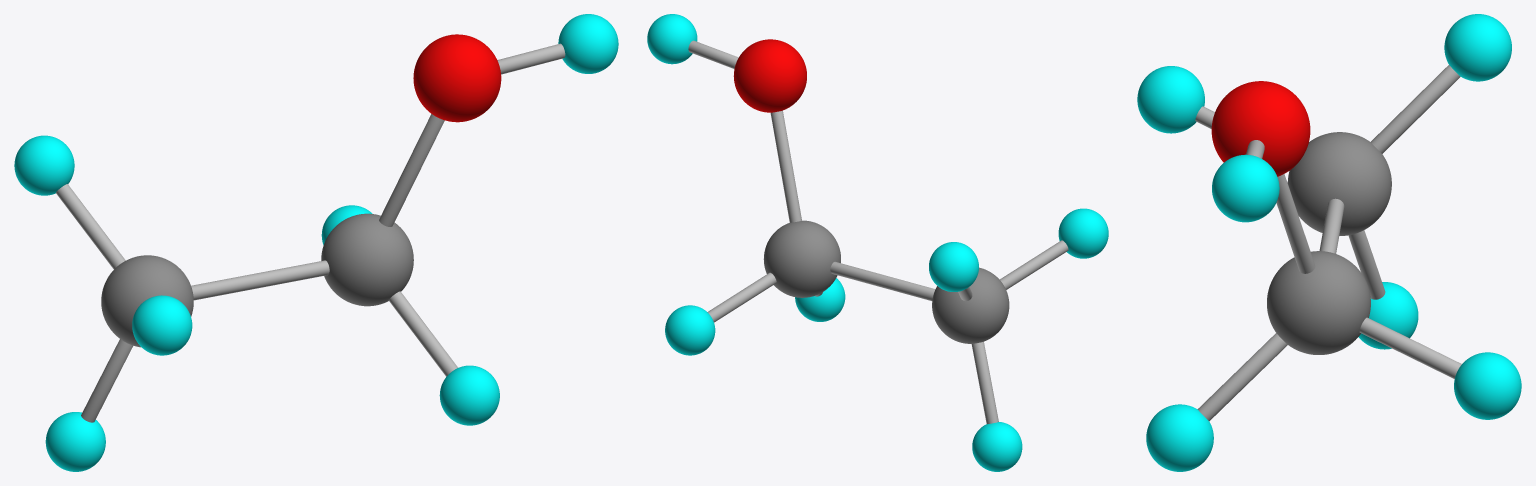
Rendered from ethanol.glb.
3 renders of one model, left to right at view 1: azimuth 30°, elevation 25°; view 2: azimuth 150°, elevation 25°; view 3: azimuth 270°, elevation 25°, orthographic. The views are drawn at different scales.
Parts seen in each view (by area): view 1: CMAtom_1, CMAtom_2, CMAtom_0, CMAtom_3, CMAtom_6, CMAtom_5, CMAtom_8, CMAtom_4, CMBond_1_Segment_0, CMBond_2_Segment_0, CMBond_5_Segment_0, CMBond_6_Segment_0 (+3 smaller); view 2: CMAtom_1, CMAtom_2, CMAtom_0, CMAtom_7, CMAtom_5, CMAtom_4, CMAtom_3, CMAtom_8, CMBond_2_Segment_0, CMBond_1_Segment_0, CMAtom_6, CMBond_4_Segment_0 (+3 smaller); view 3: CMAtom_1, CMAtom_0, CMAtom_2, CMAtom_7, CMAtom_8, CMAtom_5, CMAtom_6, CMAtom_3, CMAtom_4, CMBond_5_Segment_0, CMBond_6_Segment_0, CMBond_7_Segment_0 (+3 smaller).
Boxes of the visible parts, x1=… form: CMAtom_1: x1=321, y1=213, x2=413, y2=306; CMAtom_2: x1=413, y1=34, x2=501, y2=122; CMAtom_0: x1=101, y1=255, x2=193, y2=347; CMAtom_3: x1=132, y1=295, x2=192, y2=355; CMAtom_6: x1=439, y1=365, x2=499, y2=425; CMAtom_5: x1=14, y1=135, x2=74, y2=195; CMAtom_8: x1=558, y1=14, x2=618, y2=73; CMAtom_4: x1=45, y1=412, x2=105, y2=471; CMBond_1_Segment_0: x1=191, y1=260, x2=329, y2=300; CMBond_2_Segment_0: x1=379, y1=114, x2=444, y2=226; CMBond_5_Segment_0: x1=56, y1=184, x2=125, y2=269; CMBond_6_Segment_0: x1=388, y1=291, x2=457, y2=376; CMAtom_1: x1=763, y1=220, x2=840, y2=297; CMAtom_2: x1=733, y1=39, x2=806, y2=112; CMAtom_0: x1=932, y1=267, x2=1009, y2=343; CMAtom_7: x1=665, y1=305, x2=715, y2=355; CMAtom_5: x1=929, y1=242, x2=978, y2=291; CMAtom_4: x1=972, y1=422, x2=1022, y2=471; CMAtom_3: x1=1058, y1=208, x2=1108, y2=258; CMAtom_8: x1=647, y1=14, x2=697, y2=64; CMBond_2_Segment_0: x1=770, y1=110, x2=801, y2=222; CMBond_1_Segment_0: x1=830, y1=261, x2=935, y2=300; CMAtom_6: x1=795, y1=278, x2=845, y2=321; CMBond_4_Segment_0: x1=971, y1=341, x2=998, y2=424; CMAtom_1: x1=1267, y1=251, x2=1370, y2=354; CMAtom_0: x1=1287, y1=132, x2=1391, y2=235; CMAtom_2: x1=1211, y1=81, x2=1310, y2=176; CMAtom_7: x1=1454, y1=352, x2=1521, y2=419; CMAtom_8: x1=1212, y1=154, x2=1279, y2=222; CMAtom_5: x1=1444, y1=14, x2=1511, y2=81; CMAtom_6: x1=1146, y1=404, x2=1213, y2=471; CMAtom_3: x1=1137, y1=66, x2=1204, y2=133; CMAtom_4: x1=1358, y1=282, x2=1418, y2=349; CMBond_5_Segment_0: x1=1371, y1=65, x2=1460, y2=153; CMBond_6_Segment_0: x1=1197, y1=333, x2=1287, y2=421; CMBond_7_Segment_0: x1=1359, y1=317, x2=1461, y2=378.
Bounding box in the file's own units: 3.93 × 2.87 × 2.27.
